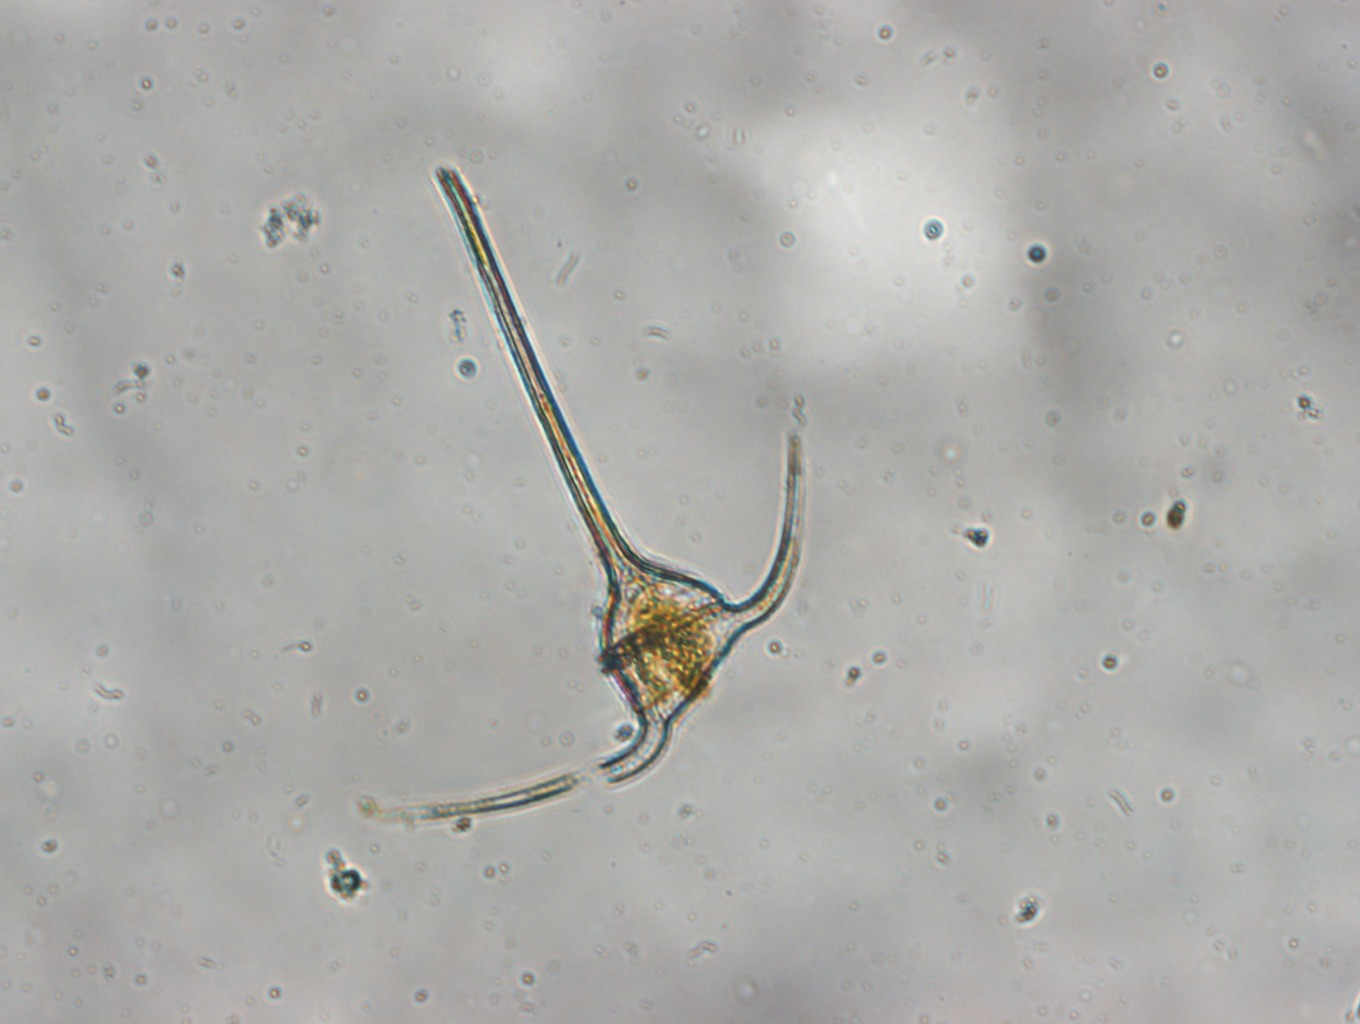ceratium trichoceros: (331, 159, 818, 827)
